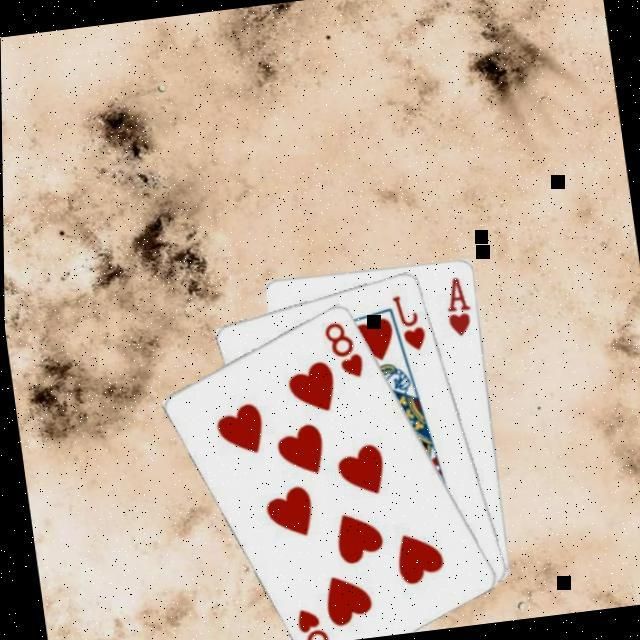8H: (320, 317, 368, 384), (290, 602, 334, 640)
AH: (439, 273, 477, 340)
JH: (389, 290, 431, 356)
